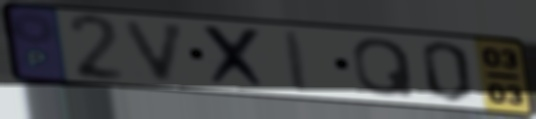0: (419, 38, 478, 105)
2: (65, 10, 129, 84)
I: (280, 29, 311, 95)
Q: (350, 36, 419, 99)
V: (120, 18, 191, 85)
X: (199, 22, 273, 93)
